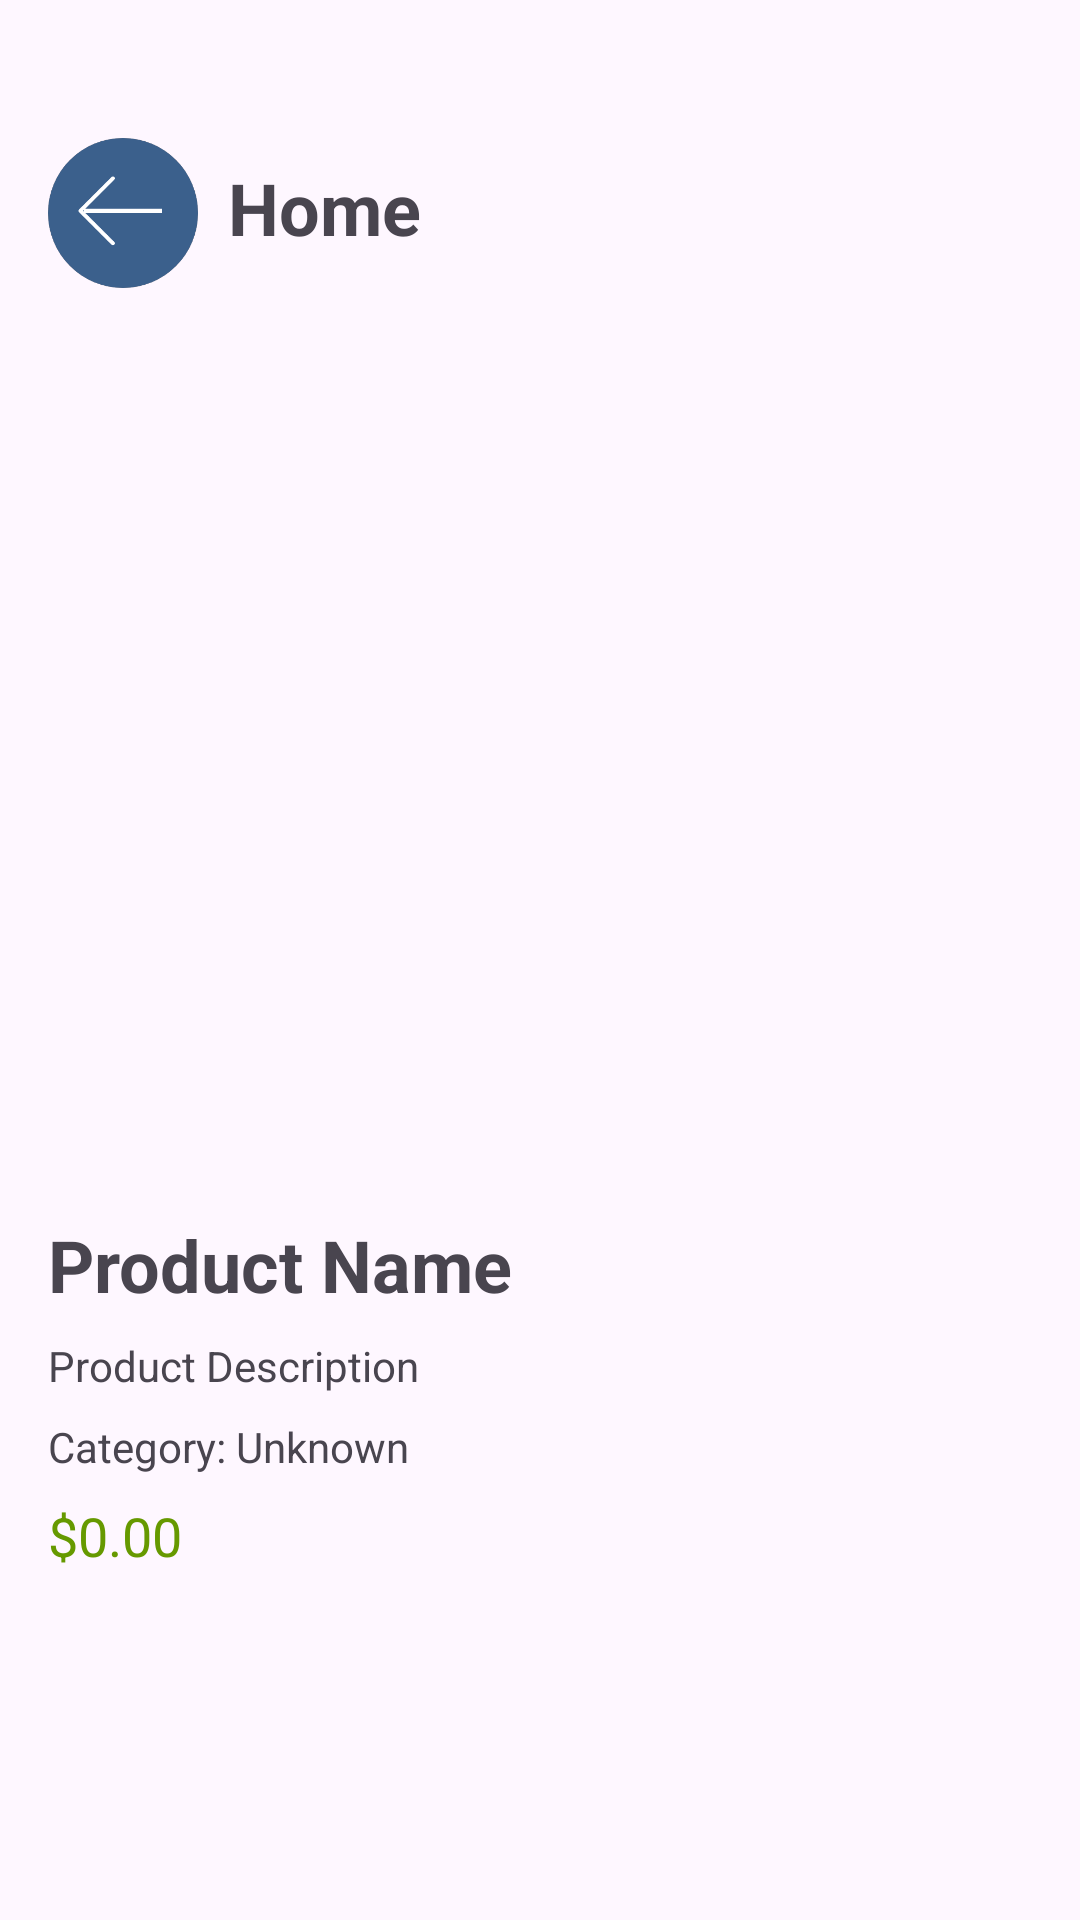

Screen size 1080px×1920px. Icon name, then its box in pixels as (x1, y1, x2, y2):
arrow: (48, 138, 198, 288)
